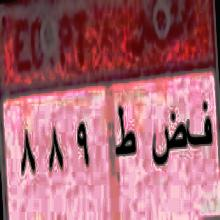8: (44, 120, 64, 180), (18, 124, 38, 184)
9: (76, 119, 92, 178)
Taa: (115, 99, 135, 167)
daad: (150, 108, 186, 176)
faa: (188, 94, 212, 154)
